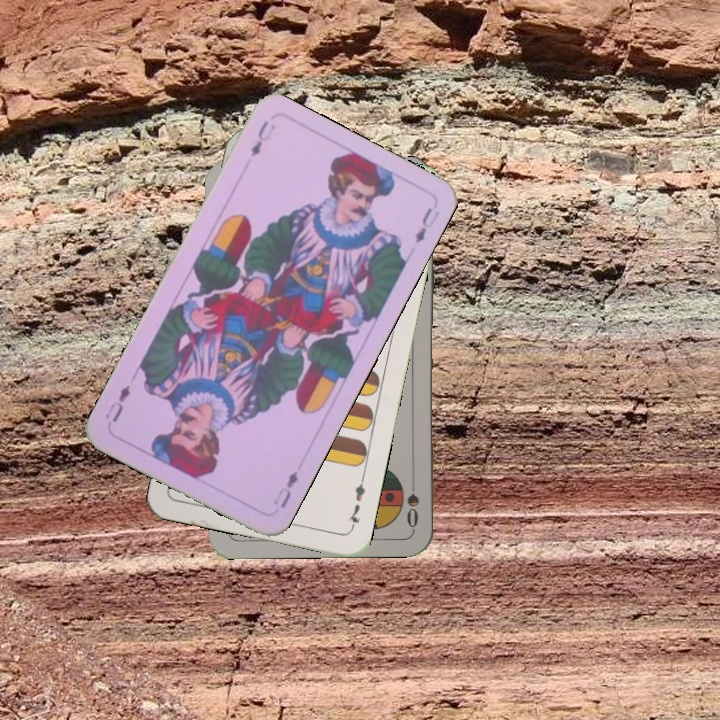E7: (344, 473, 368, 532)
EU: (246, 116, 279, 160), (269, 466, 301, 511)
SO: (402, 471, 421, 530)
